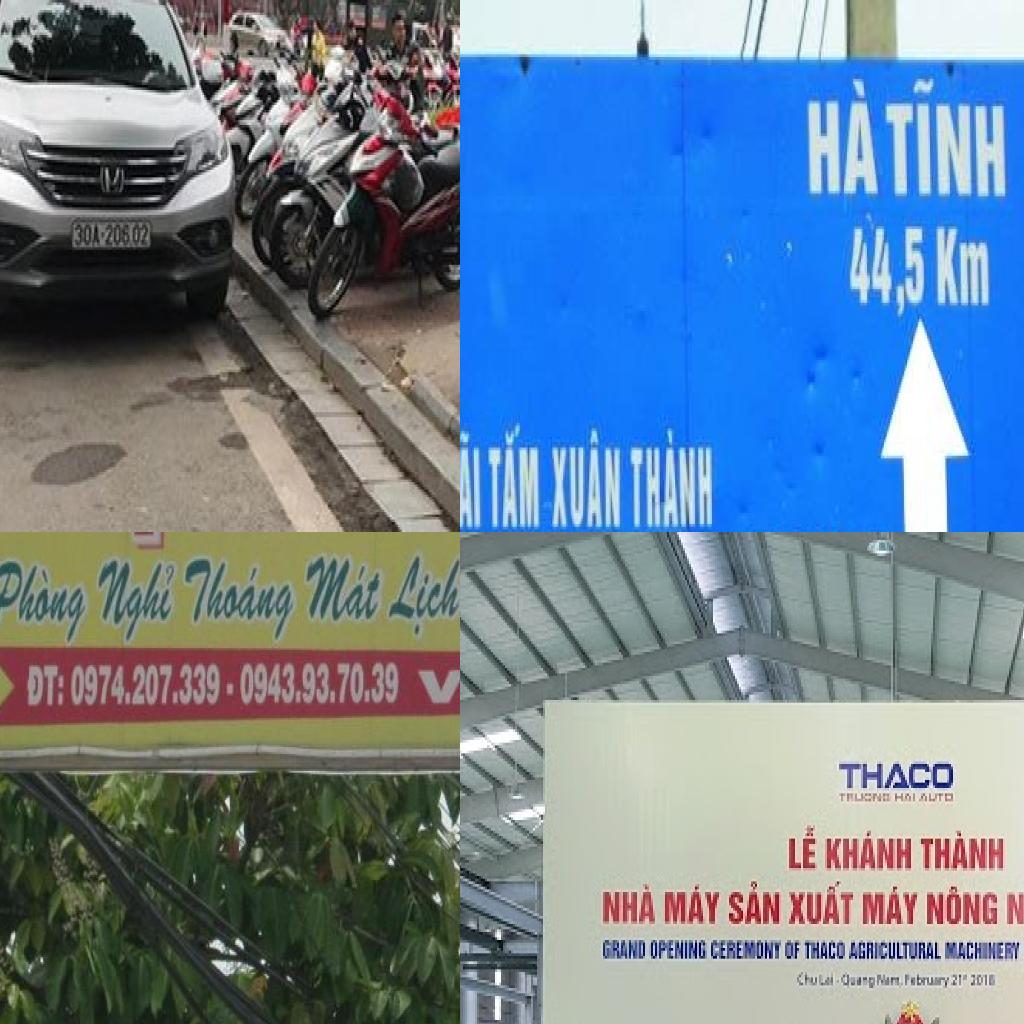text: (878, 70, 1011, 204), (176, 556, 304, 650), (801, 76, 885, 202), (627, 423, 716, 532), (0, 552, 94, 649), (89, 554, 183, 650), (236, 658, 403, 710), (68, 658, 224, 711), (547, 425, 624, 532), (847, 224, 927, 324), (296, 548, 390, 628), (379, 551, 460, 643), (484, 420, 544, 532), (933, 218, 993, 314), (917, 828, 1007, 876), (835, 759, 959, 793), (825, 828, 915, 873), (785, 879, 857, 929), (923, 884, 1003, 929), (663, 884, 727, 929), (859, 884, 923, 929), (599, 881, 659, 927), (408, 656, 460, 709), (727, 882, 783, 930), (460, 425, 484, 532), (847, 940, 947, 964), (72, 222, 151, 252), (24, 662, 69, 711), (709, 937, 785, 964), (787, 817, 821, 876), (943, 940, 1023, 964), (649, 937, 709, 964), (601, 937, 649, 964), (803, 940, 849, 964), (835, 791, 895, 809), (905, 972, 953, 993), (841, 972, 877, 993), (875, 972, 905, 993), (919, 790, 957, 806), (795, 969, 821, 991), (969, 972, 999, 991), (947, 972, 971, 991), (785, 938, 803, 962), (895, 790, 919, 806), (819, 972, 837, 991)
